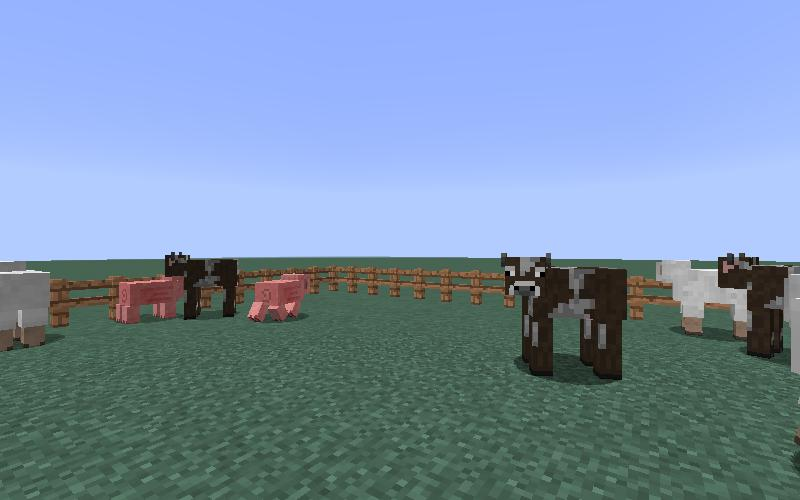cow: (495, 245, 636, 390), (716, 251, 800, 359), (160, 245, 241, 330)
pig: (110, 275, 186, 328), (245, 269, 313, 328)
sheep: (650, 256, 751, 347), (1, 260, 51, 352)
